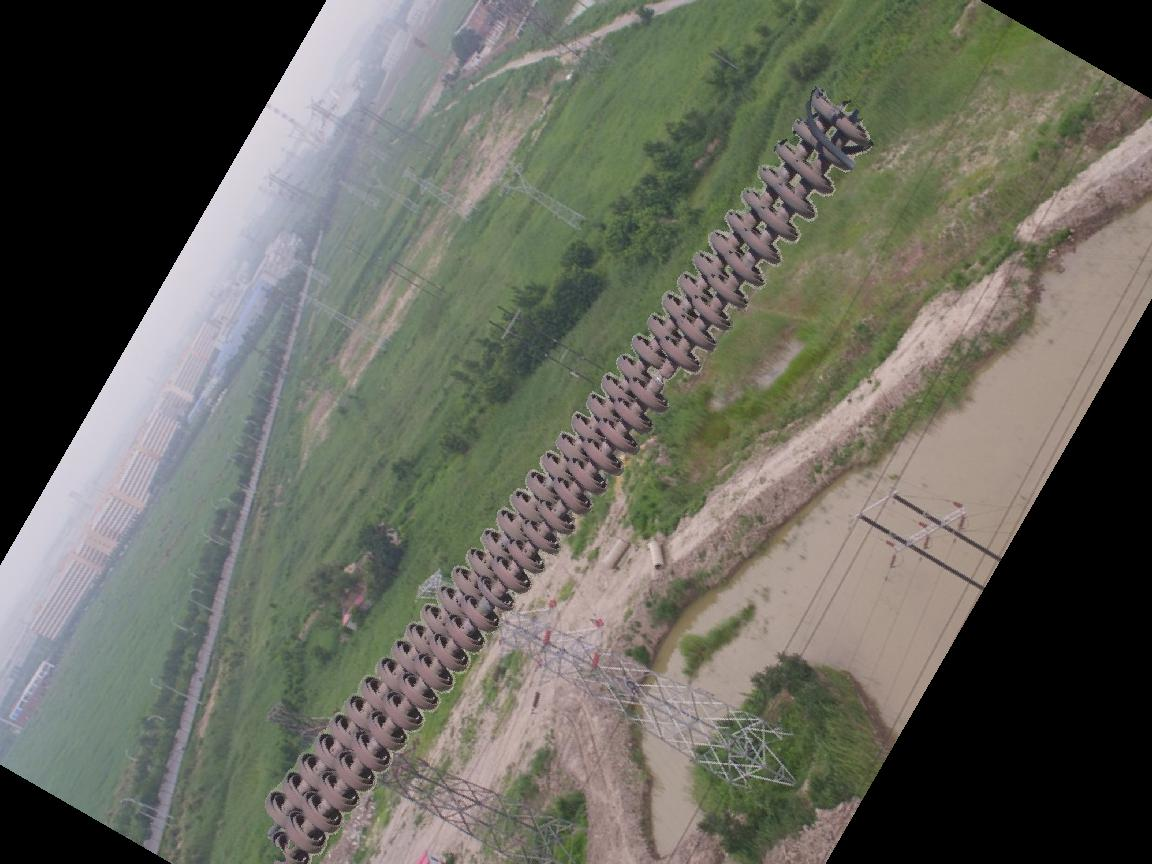insulator: (258, 82, 878, 856)
insulator_stringdrop: (629, 334, 703, 415)
